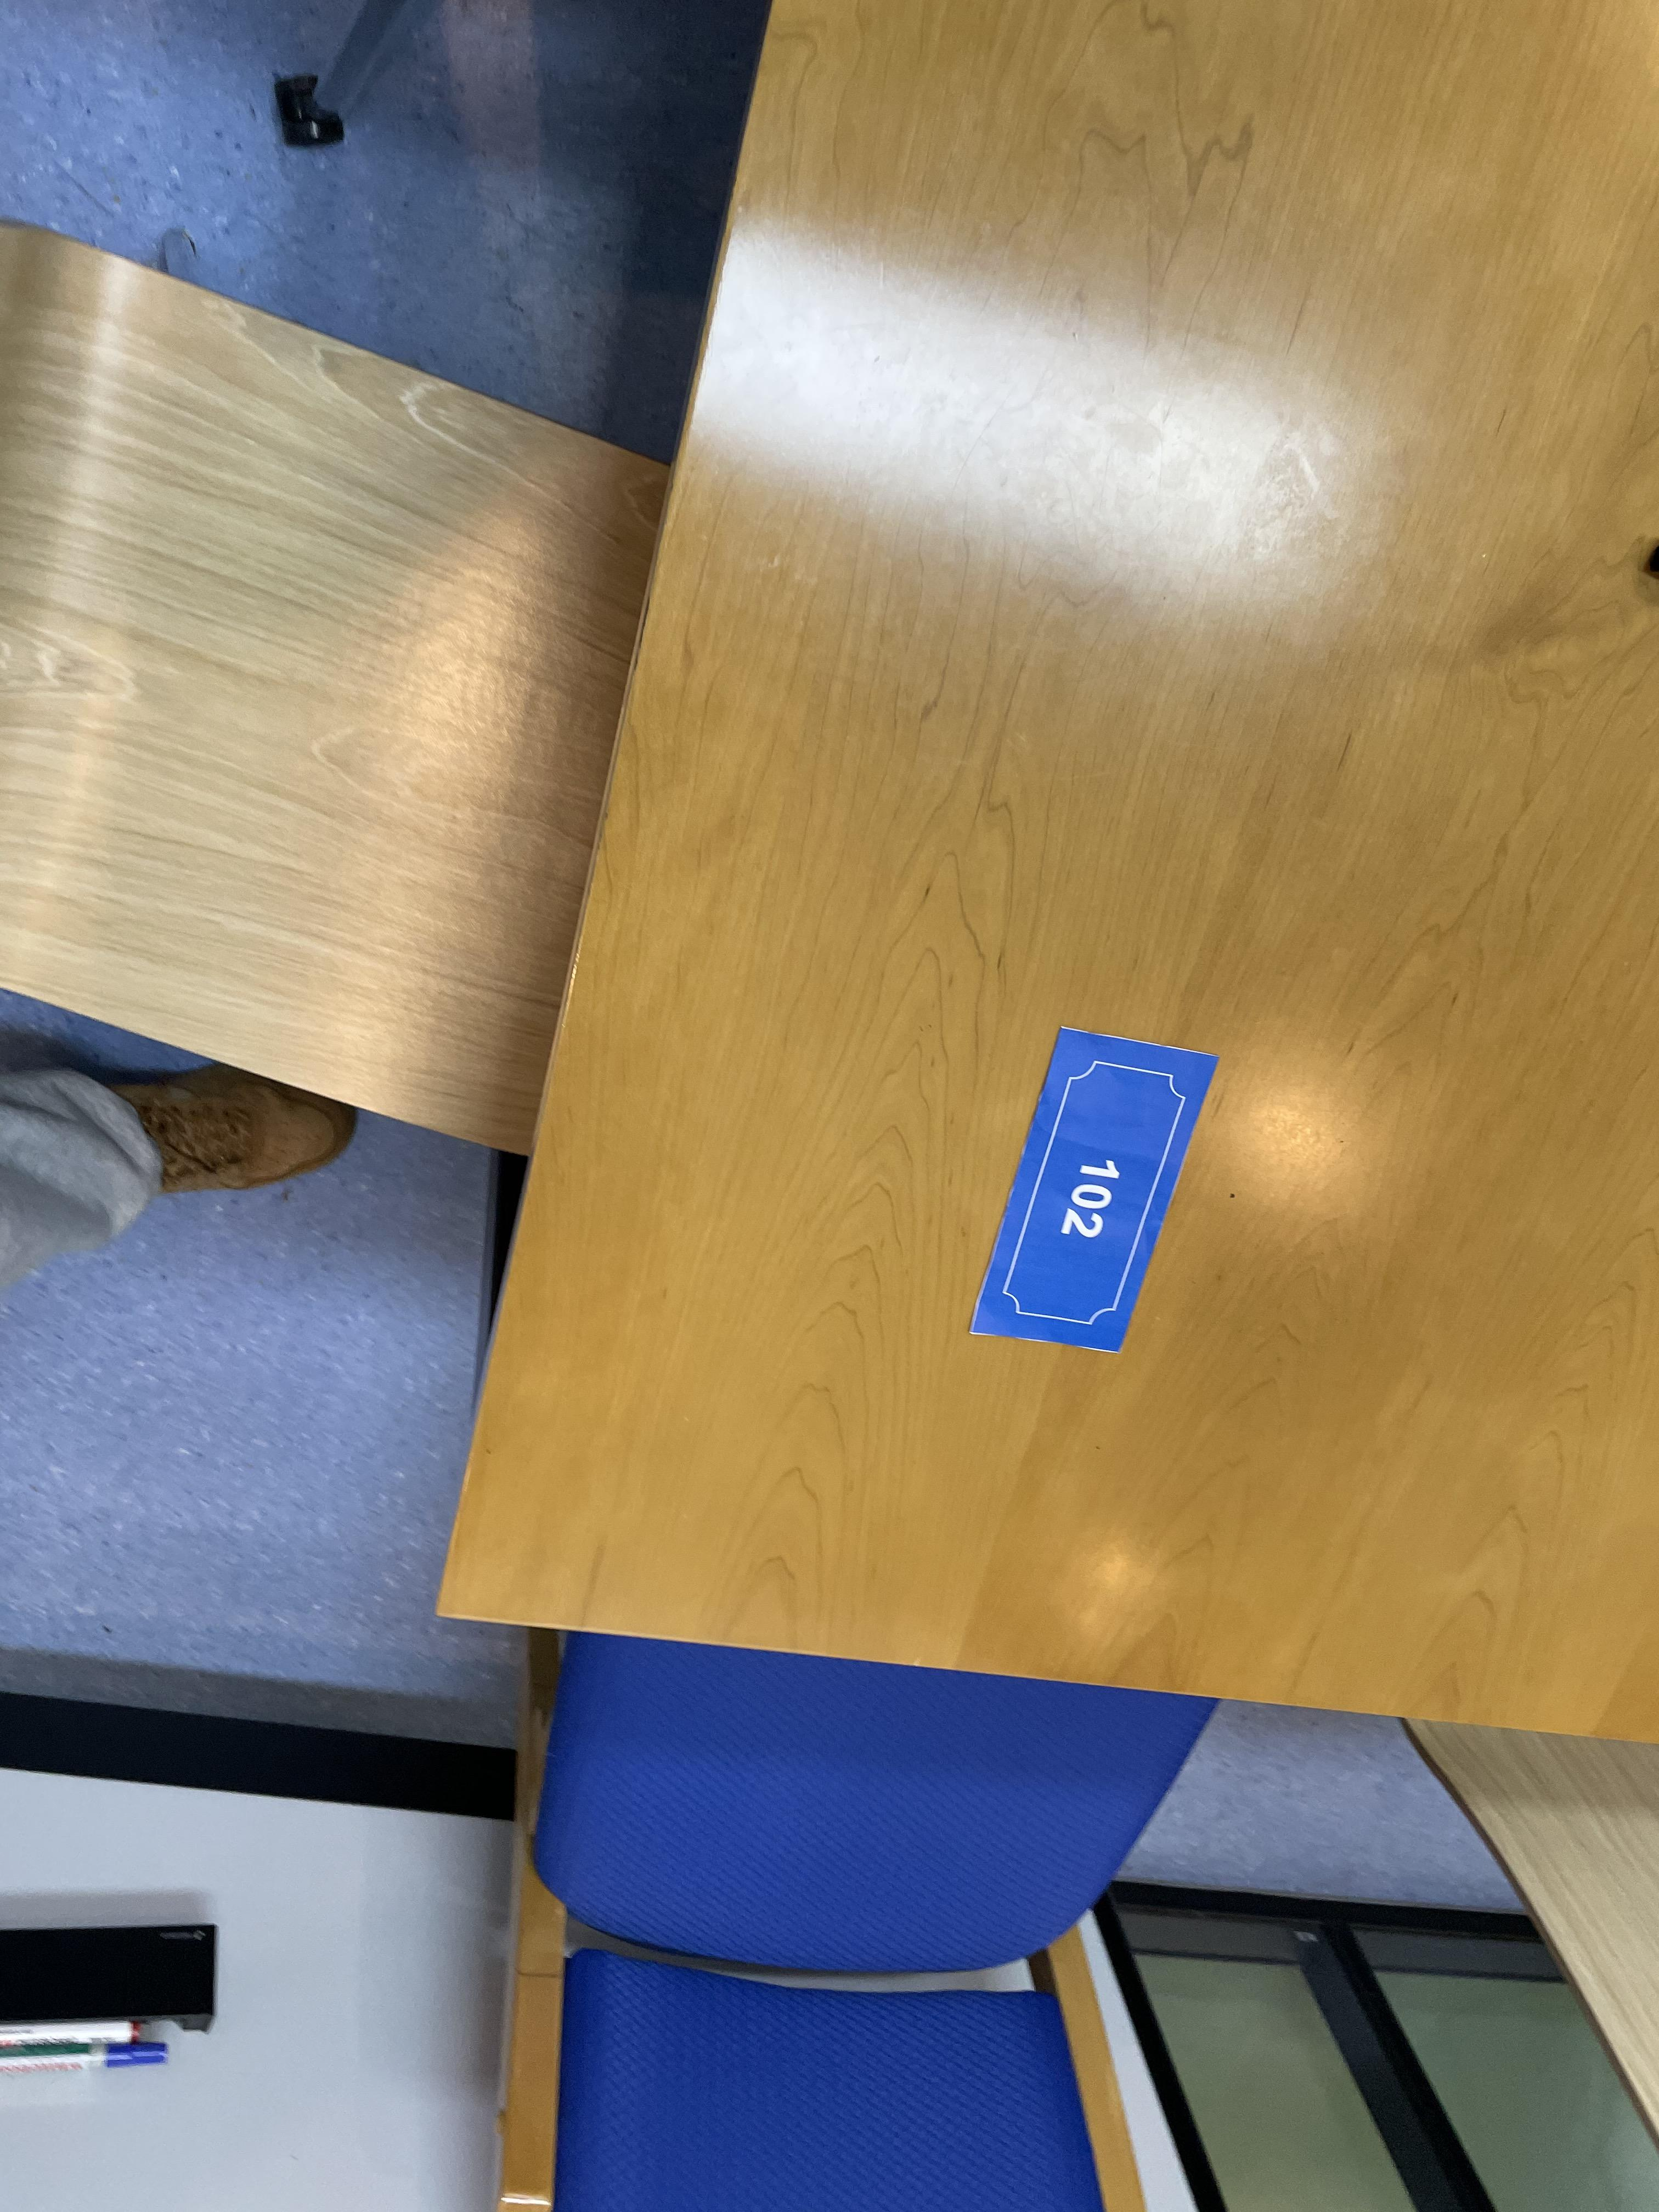Card: (928, 961, 1236, 1451)
